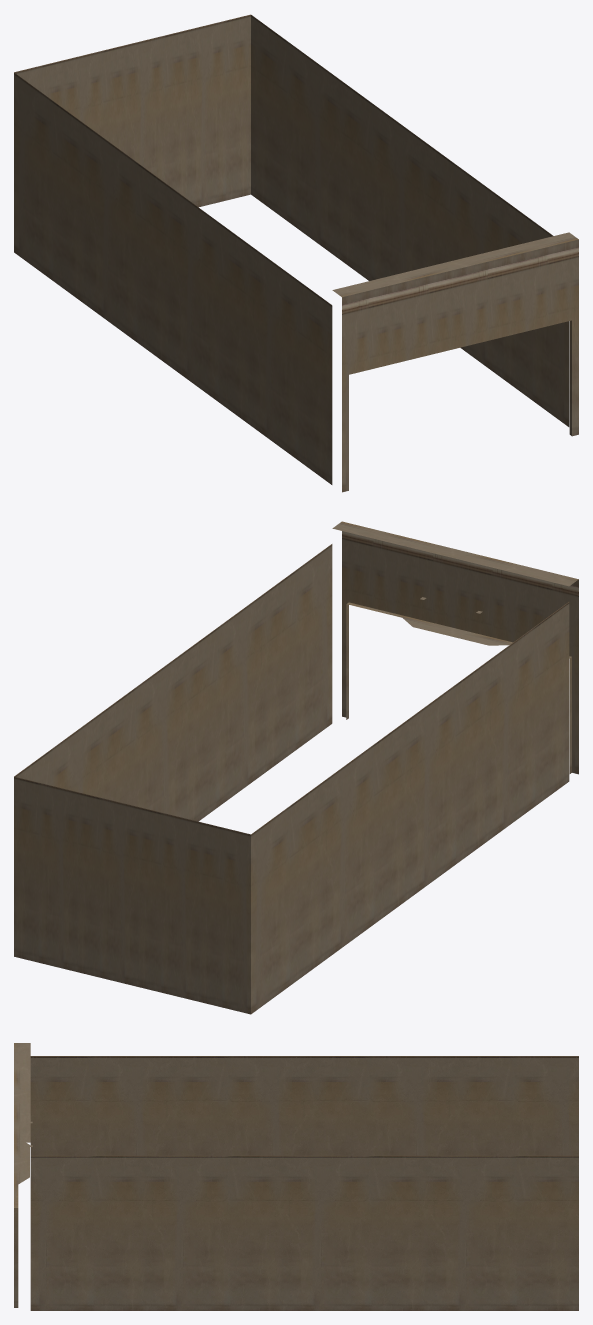
File: rural_storesmall_7_rural_midcity_walls_flr_1_0_lev2.glb
3 views of the same model, one above another, from view 1: azimuth 30°, elevation 25°; view 2: azimuth 150°, elevation 25°; view 3: azimuth 270°, elevation 25° (orthographic). The views are drawn at different scales.
Parts seen in each view (by area): view 1: rural_storesmall_7_rural_midcity_walls_flr_1_0_lev2; view 2: rural_storesmall_7_rural_midcity_walls_flr_1_0_lev2; view 3: rural_storesmall_7_rural_midcity_walls_flr_1_0_lev2.
Boxes of the visible parts, x1,y1,x2,y2 form: rural_storesmall_7_rural_midcity_walls_flr_1_0_lev2: (14, 14, 578, 492); rural_storesmall_7_rural_midcity_walls_flr_1_0_lev2: (14, 521, 578, 1014); rural_storesmall_7_rural_midcity_walls_flr_1_0_lev2: (14, 1043, 578, 1310).
Size of the model in its own units: 5.93 by 4.66 by 14.2.
Materials: 1 (1 with a texture image).
